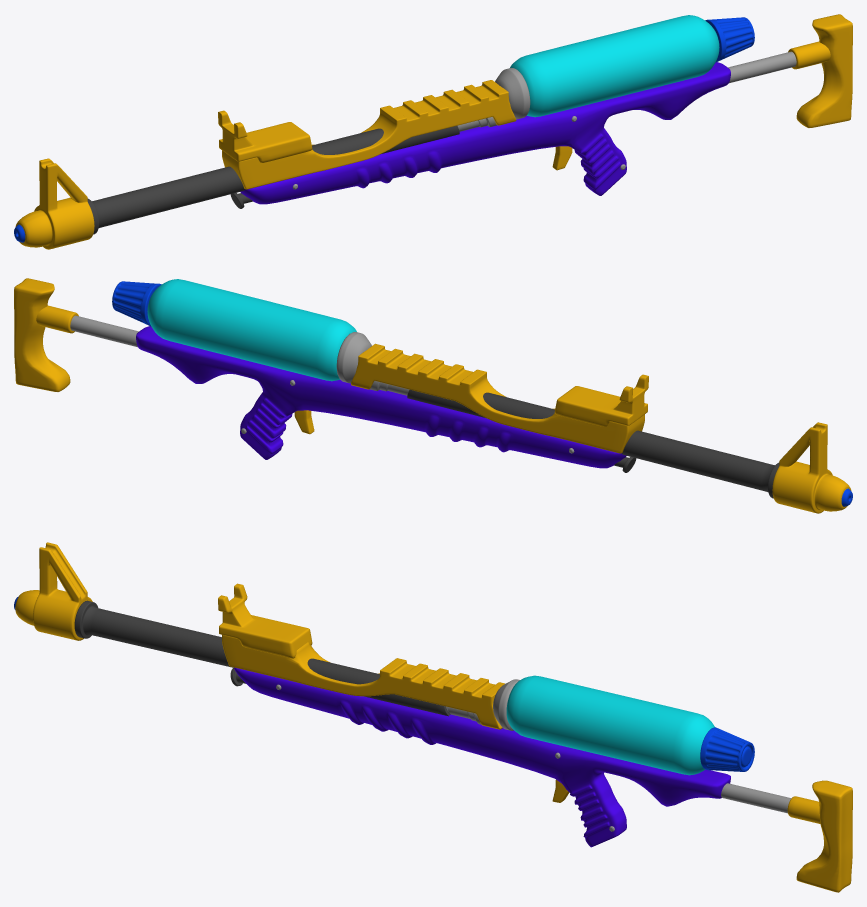
The model's file is spl3_splat_charger.fbx.
3 renders of one model, top to bottom at view 1: azimuth 30°, elevation 25°; view 2: azimuth 150°, elevation 25°; view 3: azimuth 330°, elevation 25°, orthographic.
Visible parts, largest first — view 1: Cube.012; view 2: Cube.012; view 3: Cube.012.
Part boxes in pixels (<box>): Cube.012: <box>14,14,852,249</box>; Cube.012: <box>14,278,852,513</box>; Cube.012: <box>14,542,852,892</box>.
Bounding box in the file's own units: 1790 × 339 × 118.
